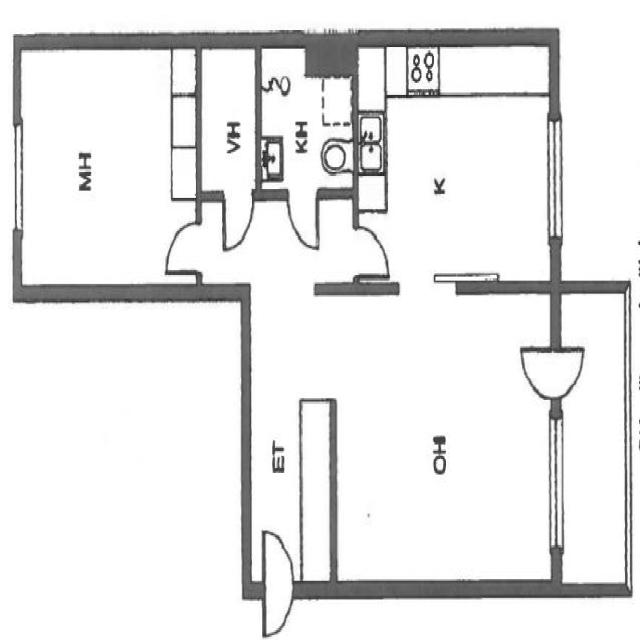door: (257, 527, 296, 639), (518, 338, 587, 399), (350, 212, 396, 280), (160, 213, 209, 273), (284, 188, 320, 256), (222, 190, 256, 256)
window: (542, 104, 568, 250), (546, 408, 567, 552), (8, 123, 29, 240)
zone: (336, 285, 554, 595), (15, 42, 201, 296), (357, 64, 558, 288), (258, 40, 357, 195), (202, 43, 257, 197)
